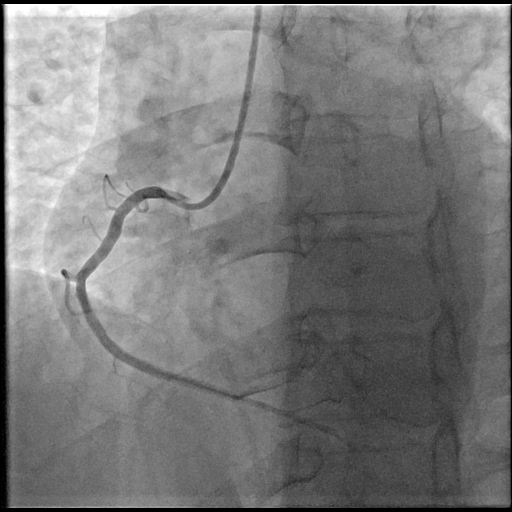RCA: (76, 186, 245, 400)
catherter: (172, 5, 262, 210)
